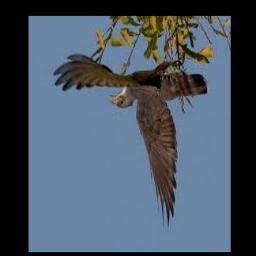Cuckoo: (54, 56, 208, 229)
